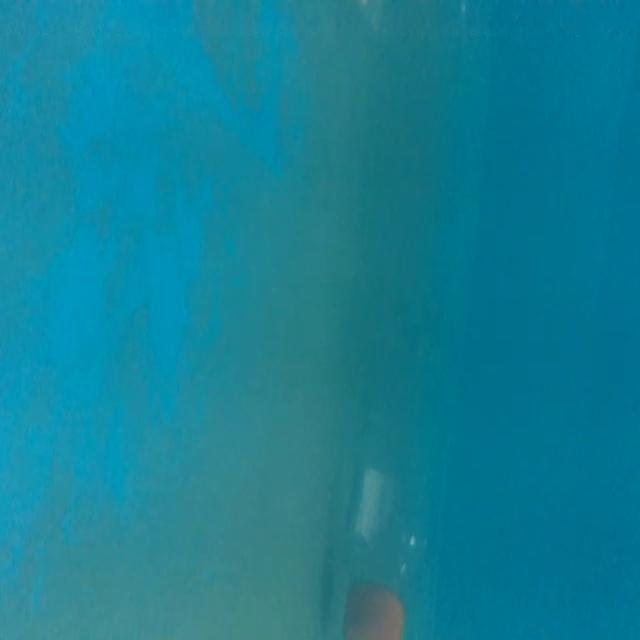plastic bottle: (332, 287, 444, 640)
